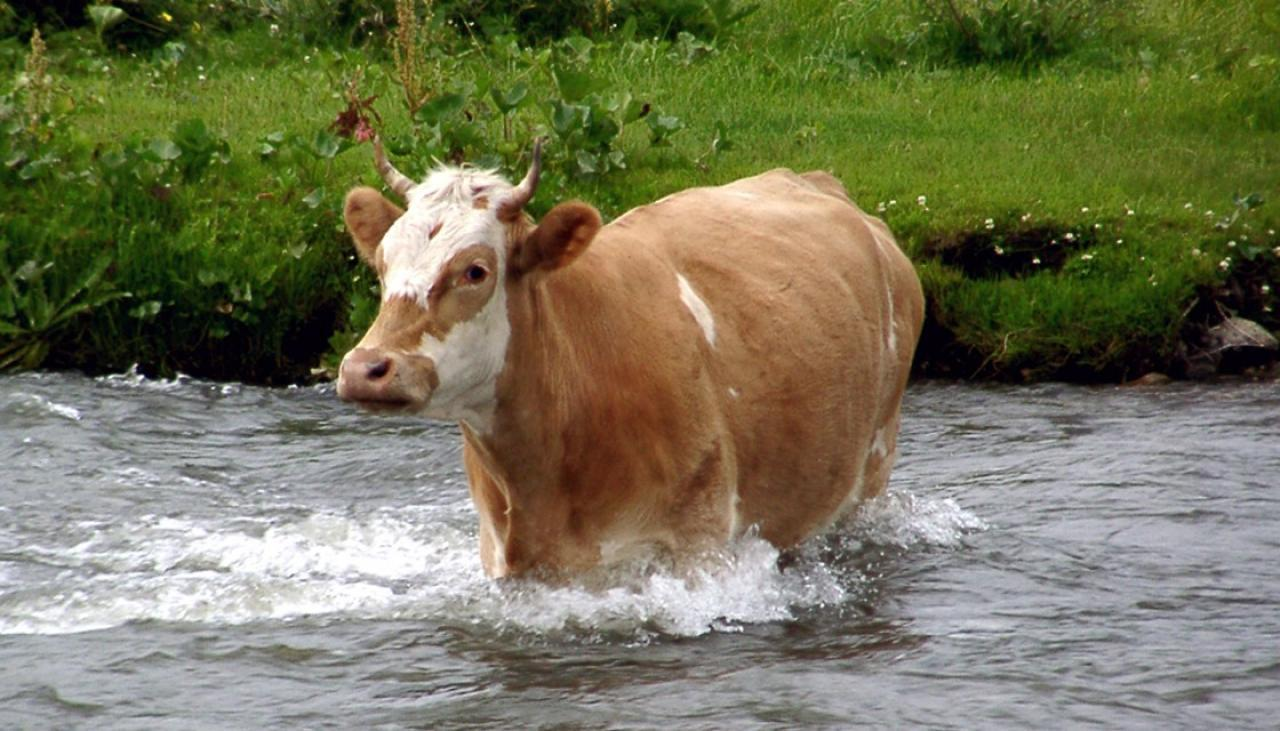muzzles: (316, 345, 445, 432)
